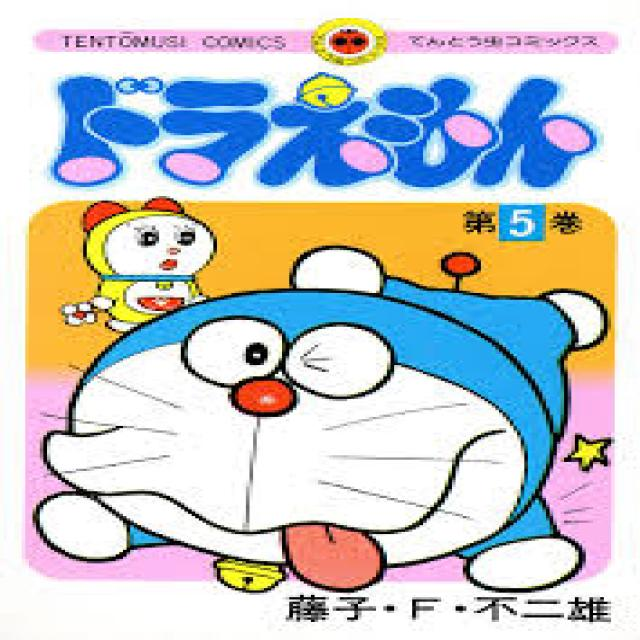doraemon: (29, 275, 625, 613)
